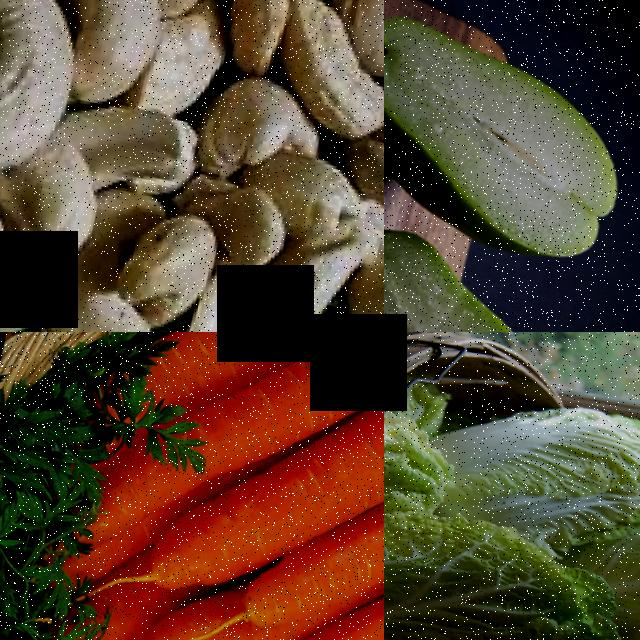cabbage: (384, 481, 615, 640), (451, 367, 640, 533)
carrot: (132, 332, 344, 389)
cashew: (0, 0, 97, 135), (266, 225, 375, 332), (0, 205, 66, 332)
chayote: (384, 0, 640, 276), (384, 219, 589, 332)
